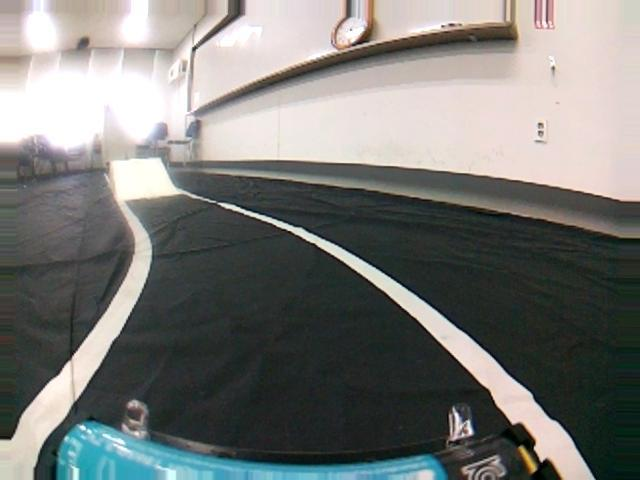left: (0, 167, 640, 480)
